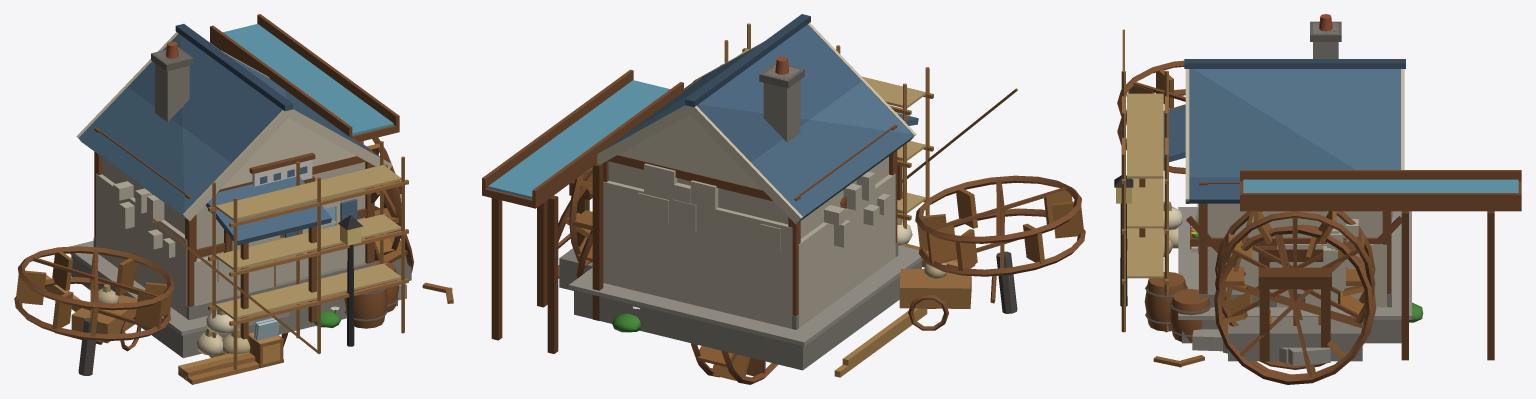
File: mill_wheel.glb
3 renders of one model, left to right at view 1: azimuth 30°, elevation 25°; view 2: azimuth 150°, elevation 25°; view 3: azimuth 270°, elevation 25°, orthographic. The views are drawn at different scales.
Visible parts, largest first — view 1: restore-mill_wheel-4, restore-mill_wheel-2, restore-mill_wheel-1, restore-mill_wheel-3, restore-mill_wheel-0; view 2: restore-mill_wheel-4, restore-mill_wheel-1, restore-mill_wheel-0, restore-mill_wheel-2, restore-mill_wheel-3, restore-mill_wheel-wheel; view 3: restore-mill_wheel-2, restore-mill_wheel-3, restore-mill_wheel-4, restore-mill_wheel-1, restore-mill_wheel-0.
Part boxes in pixels (bbox=[...]): restore-mill_wheel-4: bbox=[55, 24, 399, 356]; restore-mill_wheel-2: bbox=[69, 33, 408, 384]; restore-mill_wheel-1: bbox=[14, 155, 406, 384]; restore-mill_wheel-3: bbox=[76, 14, 411, 339]; restore-mill_wheel-0: bbox=[94, 158, 453, 327]; restore-mill_wheel-4: bbox=[482, 14, 996, 370]; restore-mill_wheel-1: bbox=[559, 153, 1085, 377]; restore-mill_wheel-0: bbox=[558, 158, 897, 332]; restore-mill_wheel-2: bbox=[559, 23, 1017, 369]; restore-mill_wheel-3: bbox=[482, 23, 918, 353]; restore-mill_wheel-wheel: bbox=[691, 343, 778, 384]; restore-mill_wheel-2: bbox=[1121, 18, 1405, 361]; restore-mill_wheel-3: bbox=[1139, 16, 1521, 360]; restore-mill_wheel-4: bbox=[1114, 14, 1521, 342]; restore-mill_wheel-1: bbox=[1117, 60, 1411, 363]; restore-mill_wheel-0: bbox=[1153, 203, 1423, 384].
Size of the model in its own units: 8.03 by 5.83 by 6.66.
